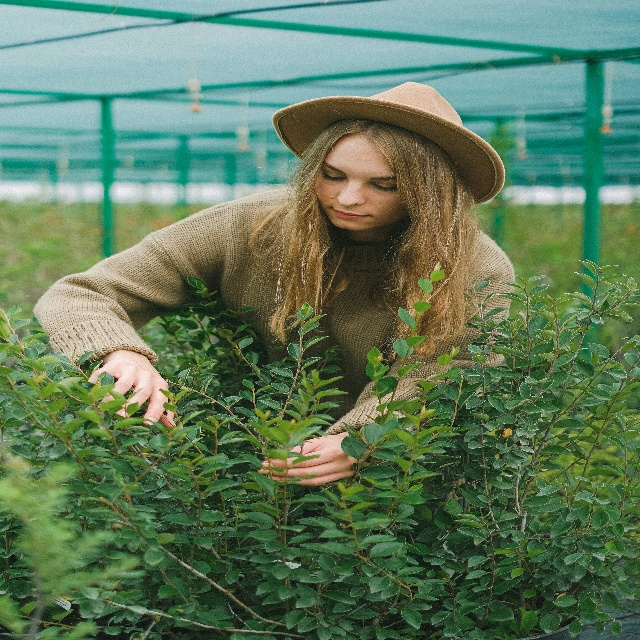Sin_guantes: (83, 345, 181, 437), (256, 430, 369, 486)
